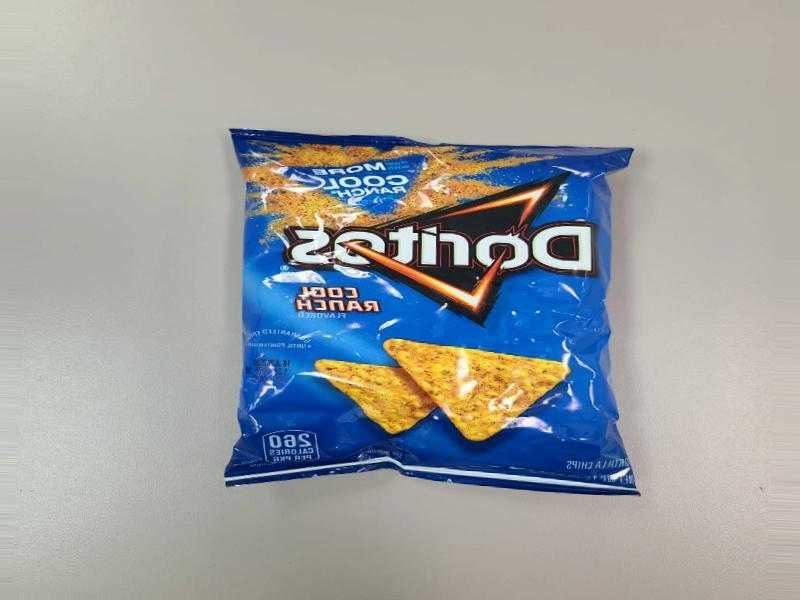doritos: (229, 106, 625, 508)
